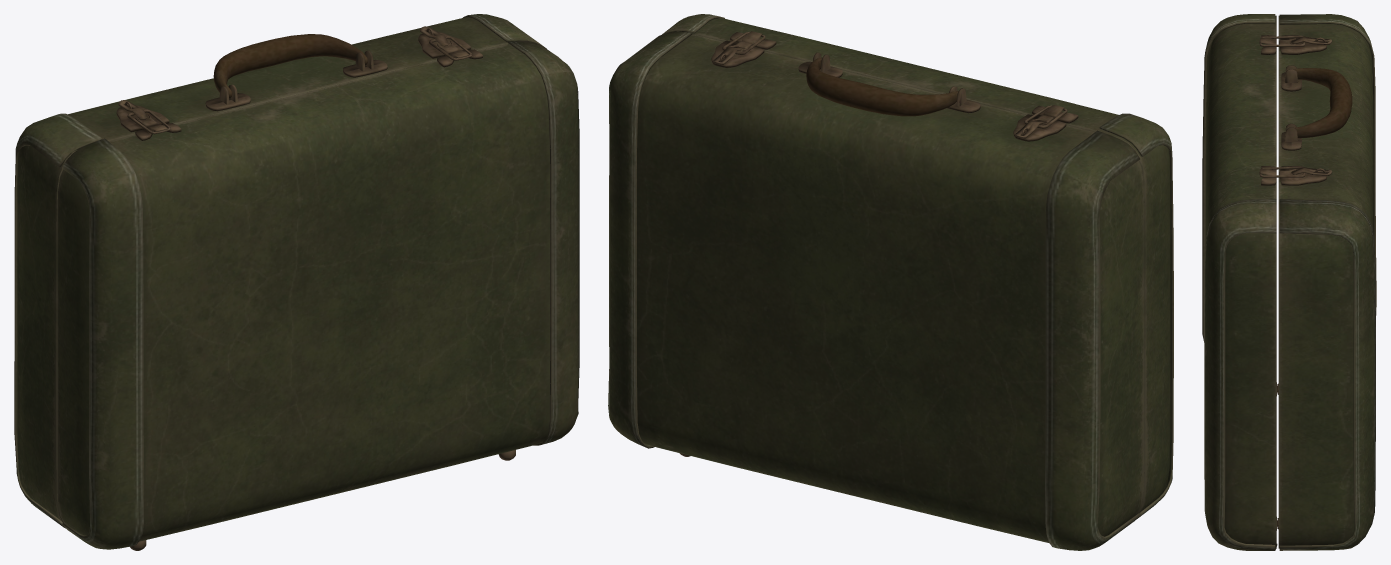
Rendered from vintage_suitcase.glb.
The picture shows the model from 3 angles, left to right: view 1: azimuth 30°, elevation 25°; view 2: azimuth 150°, elevation 25°; view 3: azimuth 270°, elevation 25°; orthographic projection. The views are drawn at different scales.
Parts seen in each view (by area): view 1: vintage_suitcase; view 2: vintage_suitcase; view 3: vintage_suitcase.
Boxes of the visible parts, box(x1,y1,x2,y2) form: vintage_suitcase: box(14, 14, 579, 550); vintage_suitcase: box(608, 14, 1173, 550); vintage_suitcase: box(1202, 14, 1376, 550).
Bounding box in the file's own units: 0.6938 × 0.5679 × 0.2392.
1 material, 1 textured.
